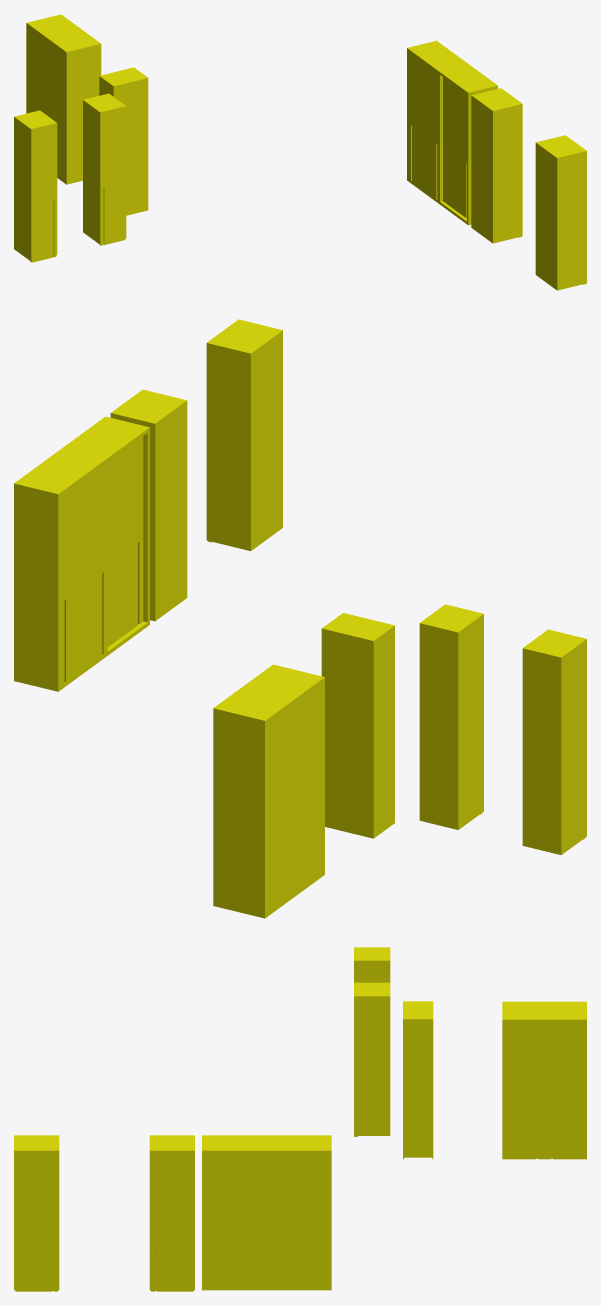
File: Closets.fbx
The picture shows the model from 3 angles, top to bottom: view 1: azimuth 30°, elevation 25°; view 2: azimuth 150°, elevation 25°; view 3: azimuth 270°, elevation 25°; orthographic projection. The views are drawn at different scales.
Parts seen in each view (by area): view 1: ClosetLargeBed01, ClosetLmallBed04, ClosetRmallBed04, ClosetDoorL, ClosetSmallBed01, DoorLBed02, DoorBed02, ClosetSBed03, ClosetLmallBed02, ClosetRmallBed02, ClosetDoorR; view 2: ClosetLargeBed01, ClosetLmallBed04, ClosetSBed03, ClosetSmallBed01, ClosetRmallBed02, ClosetLmallBed02, ClosetRmallBed04, ClosetDoorL, ClosetDoorR; view 3: ClosetSBed03, DoorLBed04, DoorRBed04, ClosetRmallBed02, DoorRBed01, DoorLBed01, DoorLBed02, ClosetLargeBed01, ClosetLmallBed04, ClosetRmallBed04, ClosetLmallBed02, ClosetSmallBed01.
Part boxes in pixels (x1=…): ClosetLargeBed01: x1=26, y1=14, x2=101, y2=184; ClosetLmallBed04: x1=535, y1=135, x2=586, y2=290; ClosetRmallBed04: x1=471, y1=88, x2=522, y2=243; ClosetDoorL: x1=408, y1=52, x2=442, y2=201; ClosetSmallBed01: x1=99, y1=67, x2=148, y2=215; DoorLBed02: x1=30, y1=124, x2=56, y2=262; DoorBed02: x1=99, y1=107, x2=125, y2=245; ClosetSBed03: x1=407, y1=40, x2=497, y2=225; ClosetLmallBed02: x1=14, y1=110, x2=57, y2=261; ClosetRmallBed02: x1=83, y1=93, x2=126, y2=244; ClosetDoorR: x1=443, y1=77, x2=466, y2=217; ClosetLargeBed01: x1=213, y1=664, x2=324, y2=918; ClosetLmallBed04: x1=206, y1=319, x2=282, y2=550; ClosetSBed03: x1=14, y1=416, x2=149, y2=691; ClosetSmallBed01: x1=321, y1=613, x2=394, y2=838; ClosetRmallBed02: x1=419, y1=604, x2=483, y2=829; ClosetLmallBed02: x1=522, y1=629, x2=586, y2=854; ClosetRmallBed04: x1=110, y1=389, x2=187, y2=621; ClosetDoorL: x1=60, y1=462, x2=107, y2=685; ClosetDoorR: x1=107, y1=436, x2=143, y2=646; ClosetSBed03: x1=202, y1=1135, x2=331, y2=1290; DoorLBed04: x1=15, y1=1152, x2=57, y2=1291; DoorRBed04: x1=151, y1=1152, x2=193, y2=1291; ClosetRmallBed02: x1=354, y1=982, x2=390, y2=1135; DoorRBed01: x1=544, y1=1022, x2=584, y2=1159; DoorLBed01: x1=505, y1=1022, x2=544, y2=1159; DoorLBed02: x1=404, y1=1020, x2=432, y2=1157; ClosetLargeBed01: x1=502, y1=1001, x2=586, y2=1159; ClosetLmallBed04: x1=14, y1=1135, x2=59, y2=1290; ClosetRmallBed04: x1=149, y1=1135, x2=194, y2=1290; ClosetLmallBed02: x1=354, y1=947, x2=390, y2=982; ClosetSmallBed01: x1=403, y1=1001, x2=433, y2=1159.
Bounding box in the file's own units: 795 × 258 × 947.
